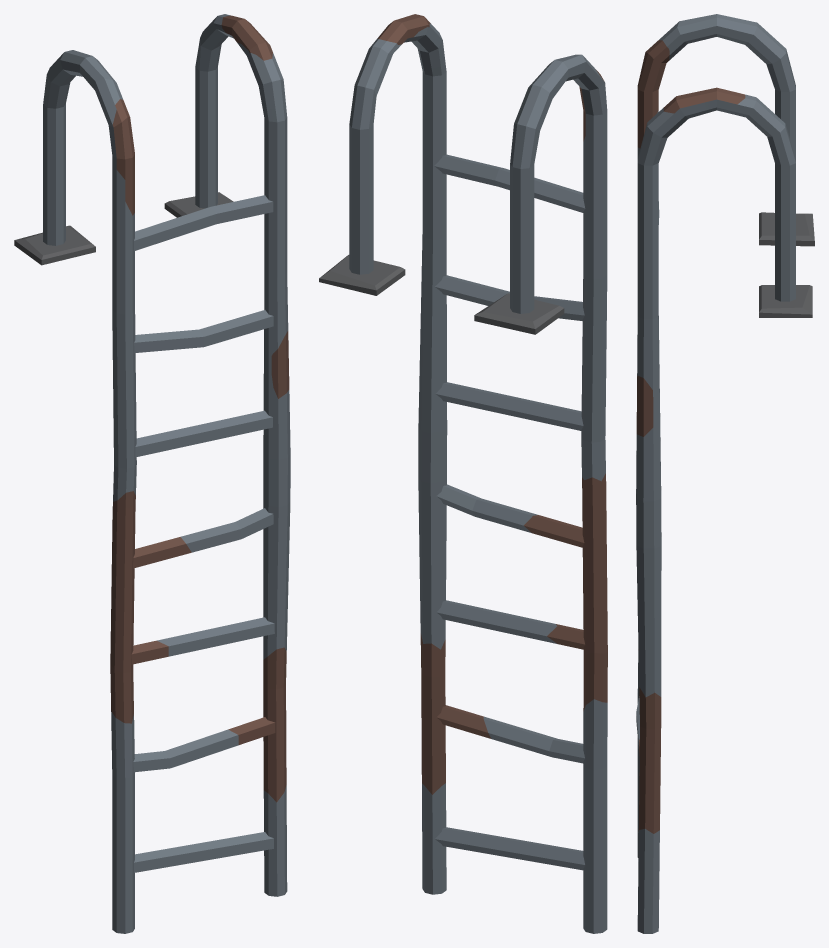
Rendered from SM_Ladder_Top.gltf.
The picture shows the model from 3 angles, left to right: view 1: azimuth 30°, elevation 25°; view 2: azimuth 150°, elevation 25°; view 3: azimuth 270°, elevation 25°; orthographic projection. The views are drawn at different scales.
Parts seen in each view (by area): view 1: SM_Ladder, SM_Ladder_Top; view 2: SM_Ladder, SM_Ladder_Top; view 3: SM_Ladder_Top, SM_Ladder.
Boxes of the visible parts, <box> form: SM_Ladder: <box>110,272,290,933</box>; SM_Ladder_Top: <box>14,14,287,314</box>; SM_Ladder: <box>418,234,607,933</box>; SM_Ladder_Top: <box>319,14,607,334</box>; SM_Ladder_Top: <box>637,14,814,319</box>; SM_Ladder: <box>636,316,661,933</box>.
Bounding box in the file's own units: 1.04 × 4.1 × 0.7908.
1 material, 1 textured.
